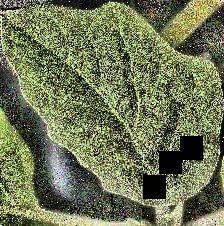HEALTHY: (0, 1, 224, 226)
